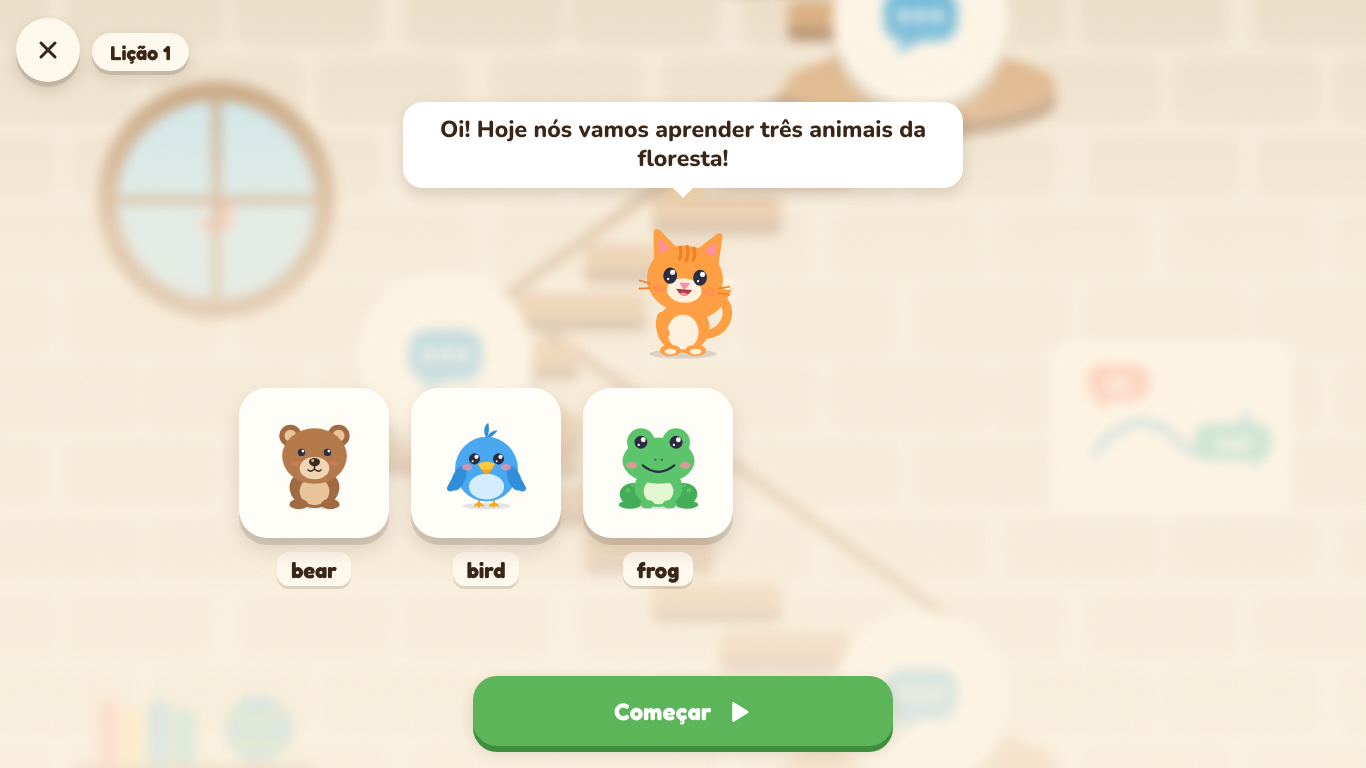
Test: StopPlayer opening › with audio locked on mount, ONE tap on ▶ unlocks and shows the first exercise
Click the button "Começar". click: click(683, 711)
box: 473,676 -> 893,746
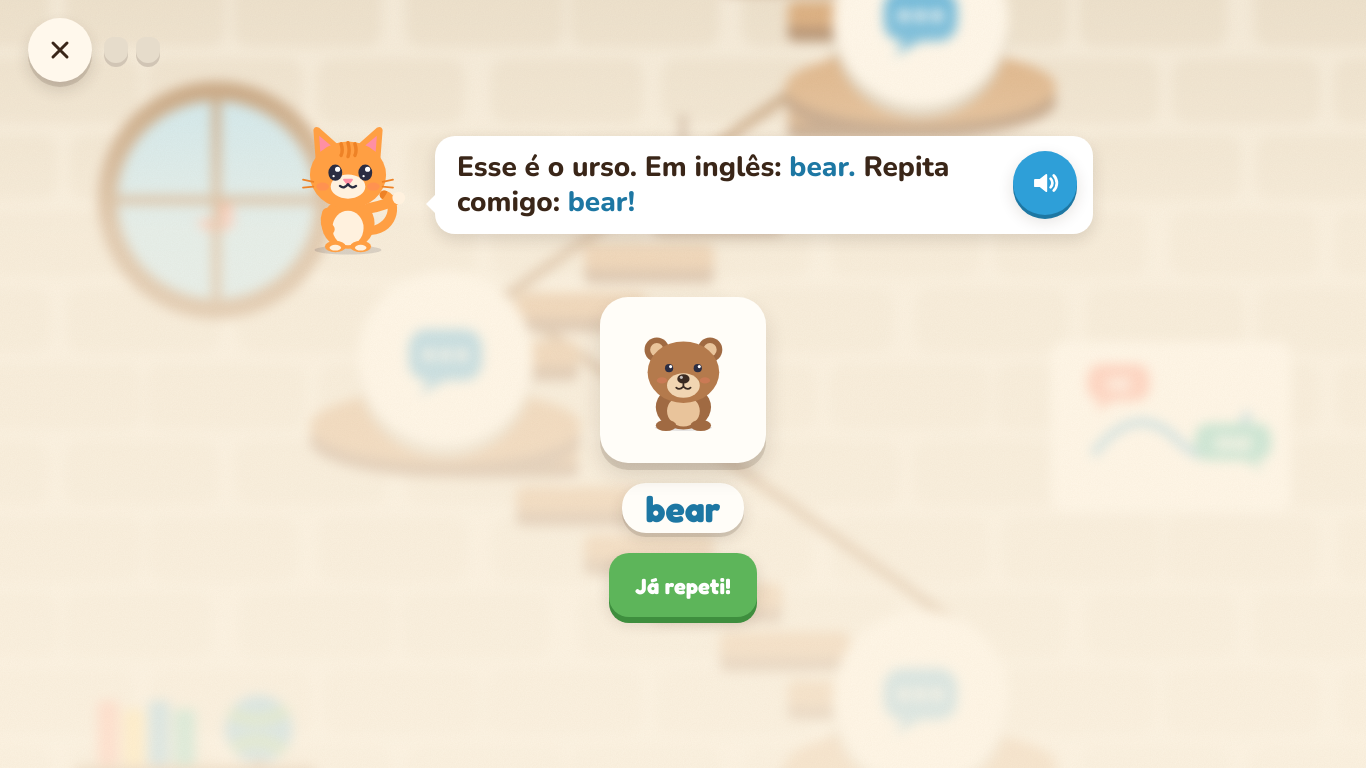
Check: the progress indicator is shown, box 104,37 -> 160,67
Check: the button "Começar" is gone
